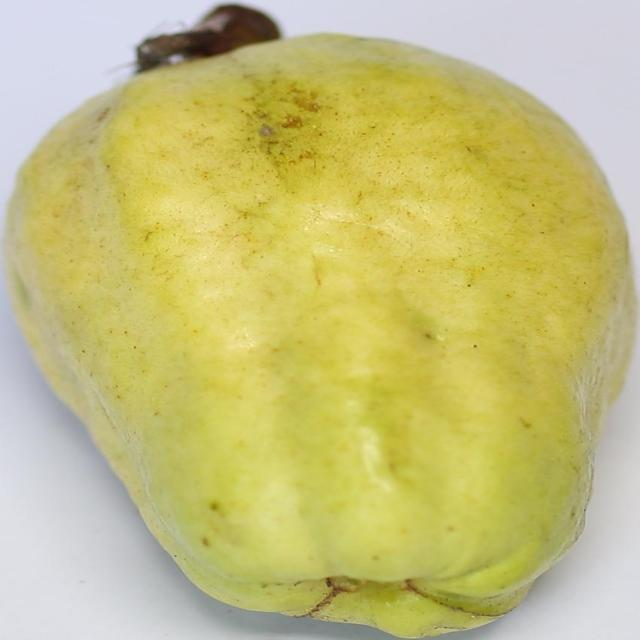Good_Guava: (1, 32, 638, 640)
